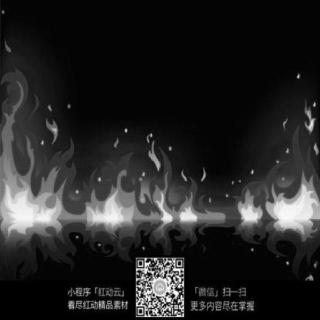Fire: (0, 38, 319, 240)
